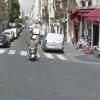Motorcycle: (19, 34, 48, 70)
